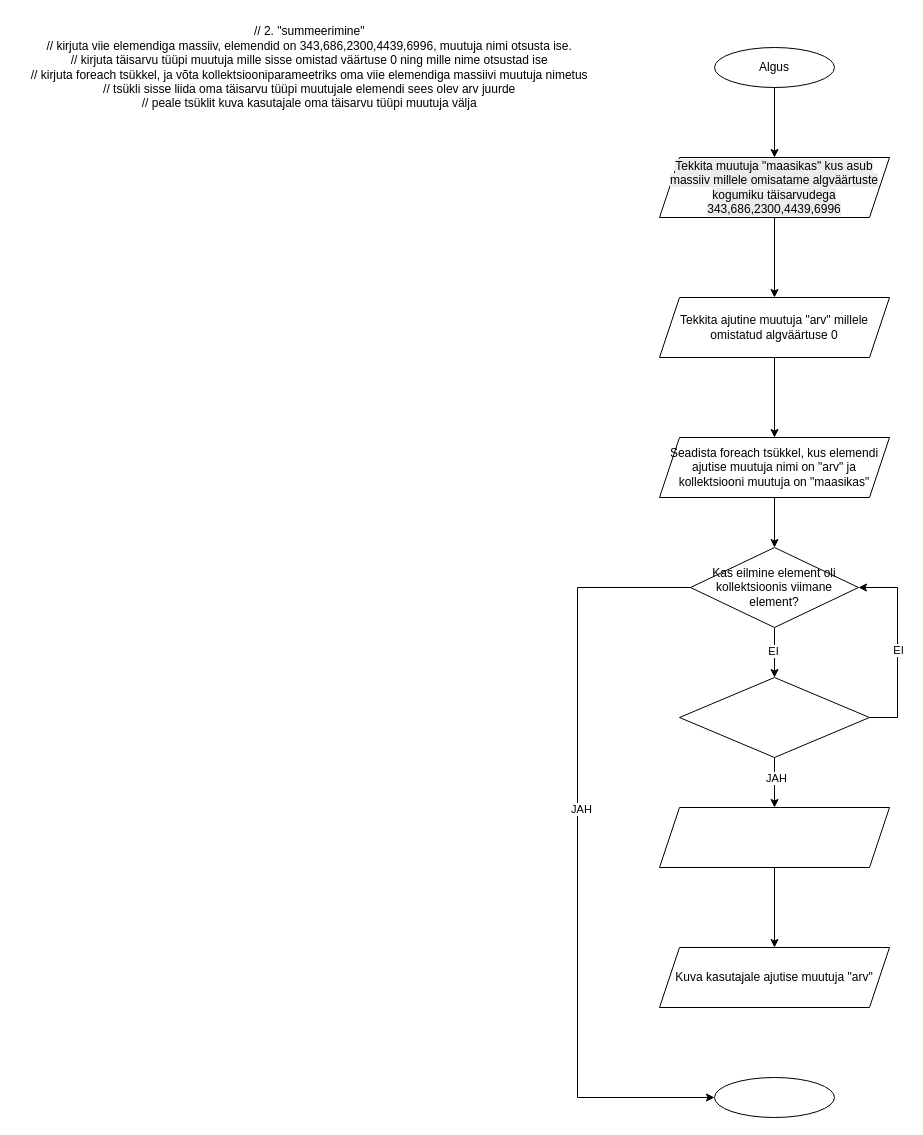
Image size: 923x1135. Some labels were removed from this diagram. Each missing label, with the box of its shape:
kas ajutises muutujas "arv" olev väärtus on suurem kui 686?: (678, 676, 870, 758)
Liida ajutise muutuja "arv" väärtusesse muutuja "maasikas": (658, 806, 890, 868)
Lõpp: (714, 1076, 834, 1118)
